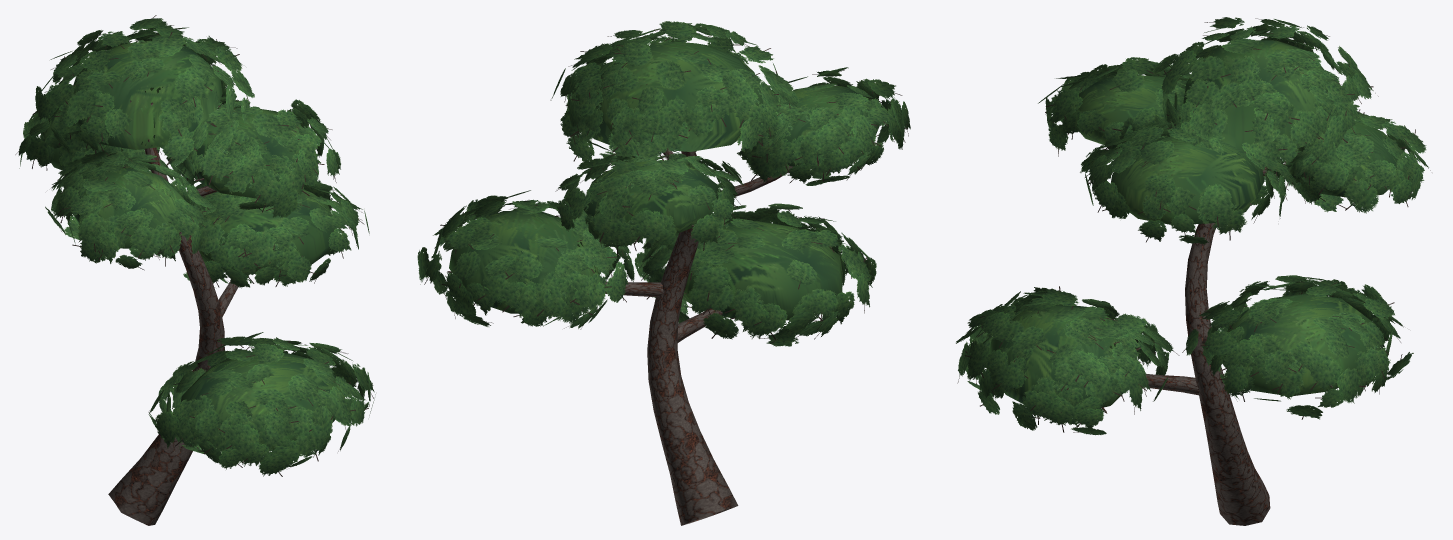
File: Kuromatsu_B.fbx
The picture shows the model from 3 angles, left to right: view 1: azimuth 30°, elevation 25°; view 2: azimuth 150°, elevation 25°; view 3: azimuth 270°, elevation 25°; orthographic projection. The views are drawn at different scales.
Parts seen in each view (by area): view 1: Kuromatsu_B; view 2: Kuromatsu_B; view 3: Kuromatsu_B.
Part boxes in pixels (box(x1,y1,x2,y2)): Kuromatsu_B: box(15, 15, 375, 525); Kuromatsu_B: box(417, 21, 910, 525); Kuromatsu_B: box(956, 17, 1430, 525).
Size of the model in its own units: 3.43 by 4.14 by 3.73.
2 materials, 2 textured.
